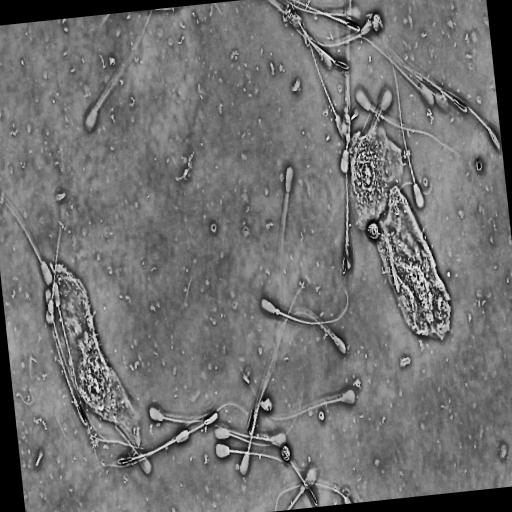dirt-particles: (344, 124, 456, 346), (45, 258, 142, 451), (173, 145, 198, 185), (365, 9, 383, 36), (291, 75, 302, 98), (258, 396, 273, 411), (207, 220, 219, 236), (281, 446, 291, 460), (475, 159, 484, 173)
normal: (45, 286, 137, 453), (84, 10, 153, 131), (52, 281, 97, 458), (354, 86, 460, 158), (293, 1, 348, 139), (383, 50, 426, 212), (0, 197, 53, 285), (239, 360, 275, 477), (96, 429, 190, 471), (46, 147, 66, 326), (215, 443, 315, 476), (260, 289, 349, 325), (277, 311, 347, 355), (267, 389, 357, 421), (147, 401, 249, 425), (279, 165, 294, 291)
proximal-droplet: (275, 308, 280, 315)
